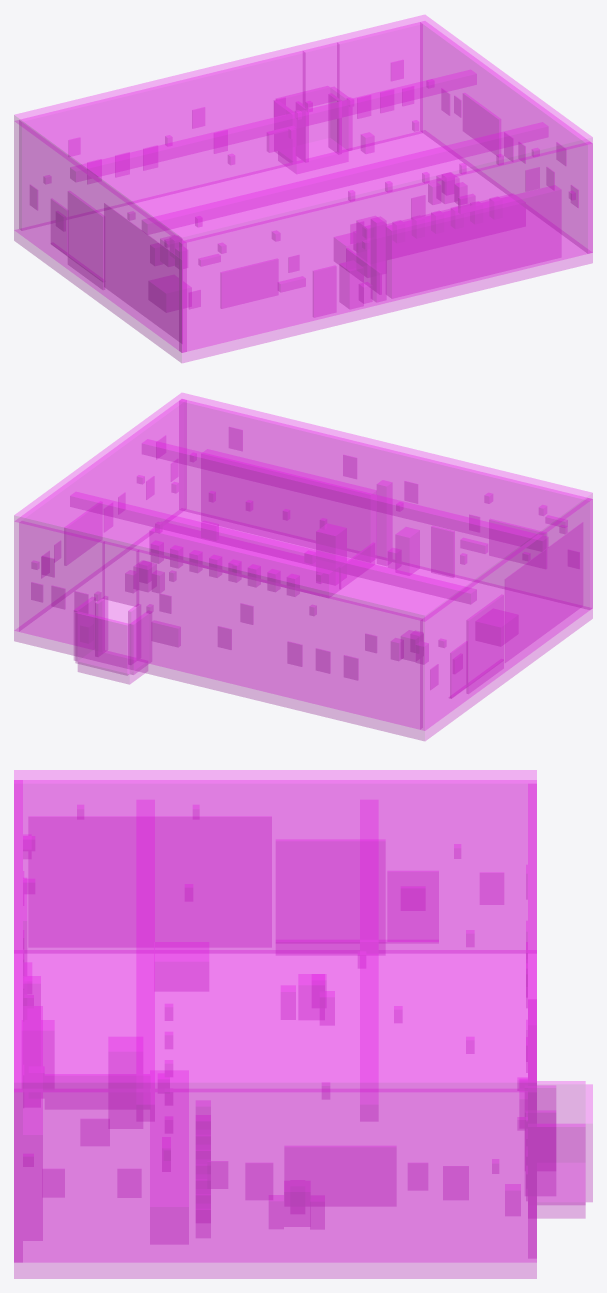
Rendered from club-interior-collision.glb.
3 views of the same model, one above another, from view 1: azimuth 30°, elevation 25°; view 2: azimuth 150°, elevation 25°; view 3: azimuth 270°, elevation 25° (orthographic). The views are drawn at different scales.
Visible parts, largest first — view 1: col_002_ceiling, col_003_wall_back, col_000_floor, col_006_wall_front_a, col_005_wall_right, col_004_wall_left, col_044_back_bar, col_007_wall_front_b, col_012_duct_a, col_013_duct_b, col_061_mural_panel, col_062_redwood_panel (+8 smaller); view 2: col_002_ceiling, col_000_floor, col_006_wall_front_a, col_003_wall_back, col_005_wall_right, col_004_wall_left, col_044_back_bar, col_007_wall_front_b, col_061_mural_panel, col_012_duct_a, col_013_duct_b, col_025_bar_counter (+17 smaller); view 3: col_002_ceiling, col_000_floor, col_004_wall_left, col_005_wall_right, col_061_mural_panel, col_062_redwood_panel, col_070_tv_skyline, col_012_duct_a, col_013_duct_b, col_025_bar_counter, col_044_back_bar, col_003_wall_back (+18 smaller).
Part boxes in pixels (left/top/right/bottom): col_002_ceiling: left=14, top=15, right=592, bottom=243; col_003_wall_back: left=179, top=142, right=592, bottom=352; col_000_floor: left=14, top=133, right=592, bottom=362; col_006_wall_front_a: left=19, top=51, right=304, bottom=230; col_005_wall_right: left=14, top=120, right=186, bottom=352; col_004_wall_left: left=420, top=21, right=592, bottom=253; col_044_back_bar: left=386, top=185, right=560, bottom=298; col_007_wall_front_b: left=337, top=22, right=422, bottom=152; col_012_duct_a: left=70, top=70, right=476, bottom=181; col_013_duct_b: left=142, top=122, right=547, bottom=234; col_061_mural_panel: left=104, top=203, right=178, bottom=340; col_062_redwood_panel: left=68, top=191, right=104, bottom=289; col_002_ceiling: left=14, top=393, right=592, bottom=621; col_000_floor: left=14, top=511, right=592, bottom=740; col_006_wall_front_a: left=136, top=550, right=422, bottom=729; col_003_wall_back: left=180, top=399, right=592, bottom=609; col_005_wall_right: left=420, top=499, right=592, bottom=730; col_004_wall_left: left=14, top=399, right=185, bottom=631; col_044_back_bar: left=201, top=449, right=376, bottom=558; col_007_wall_front_b: left=19, top=521, right=104, bottom=649; col_061_mural_panel: left=505, top=522, right=582, bottom=662; col_012_duct_a: left=70, top=492, right=476, bottom=603; col_013_duct_b: left=142, top=439, right=547, bottom=551; col_025_bar_counter: left=150, top=527, right=340, bottom=597; col_002_ceiling: left=14, top=770, right=536, bottom=1091; col_000_floor: left=14, top=953, right=536, bottom=1278; col_004_wall_left: left=14, top=1089, right=536, bottom=1262; col_005_wall_right: left=14, top=780, right=536, bottom=952; col_061_mural_panel: left=29, top=817, right=271, bottom=946; col_062_redwood_panel: left=276, top=840, right=384, bottom=954; col_070_tv_skyline: left=285, top=1146, right=395, bottom=1205; col_012_duct_a: left=360, top=800, right=377, bottom=1120; col_013_duct_b: left=137, top=800, right=154, bottom=1120; col_025_bar_counter: left=150, top=1071, right=188, bottom=1243; col_044_back_bar: left=23, top=1006, right=42, bottom=1240; col_003_wall_back: left=14, top=780, right=22, bottom=1262.
Bounding box in the file's own units: 20.5 × 6 × 16.05.
